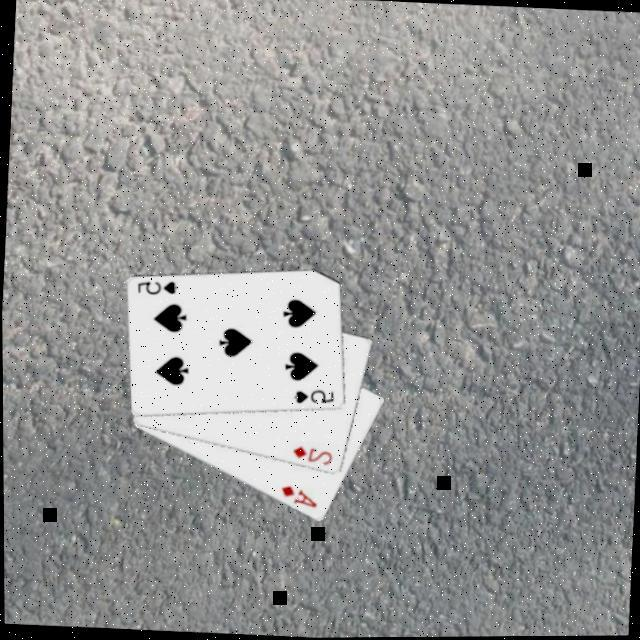2D: (290, 444, 336, 469)
5S: (292, 386, 339, 409), (136, 278, 182, 300)
AD: (278, 484, 323, 514)
